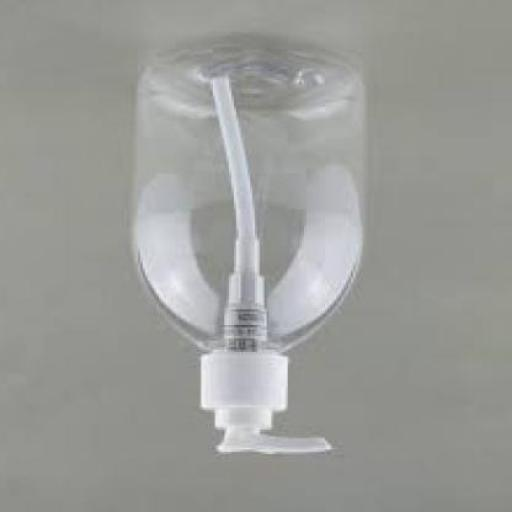plastic: (131, 38, 370, 457), (199, 350, 334, 456)
